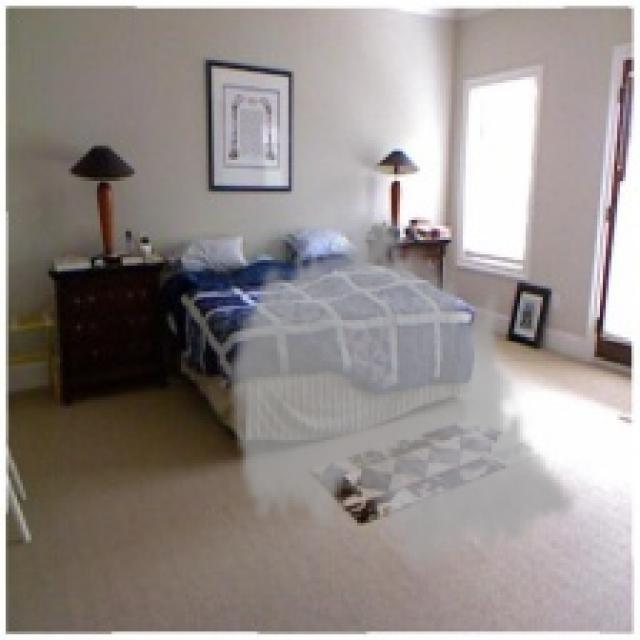Smoke: (222, 203, 578, 583)
